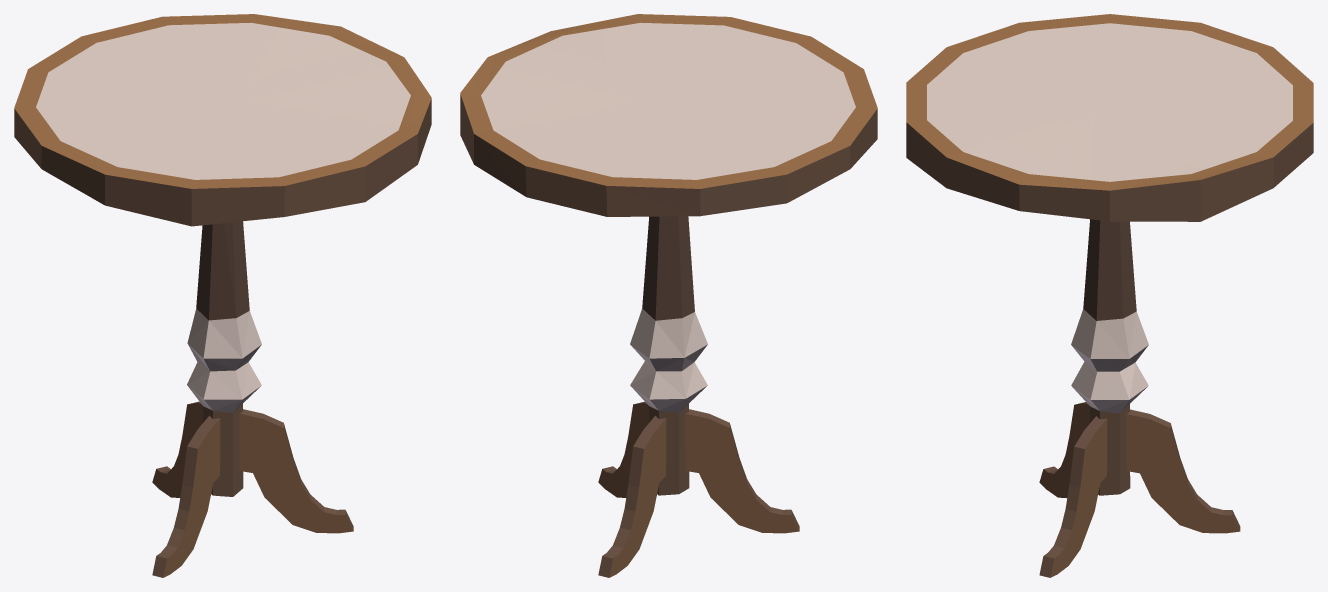
File: table_side_small.fbx
3 views of the same model, side by side, from view 1: azimuth 30°, elevation 25°; view 2: azimuth 150°, elevation 25°; view 3: azimuth 270°, elevation 25° (orthographic).
Parts seen in each view (by area): view 1: table_side_small; view 2: table_side_small; view 3: table_side_small.
Part boxes in pixels (x1,y1,x2,y2): table_side_small: [14, 14, 431, 577]; table_side_small: [460, 14, 877, 577]; table_side_small: [906, 14, 1313, 577].
Bounding box in the file's own units: 63.28 × 71.86 × 61.69.
